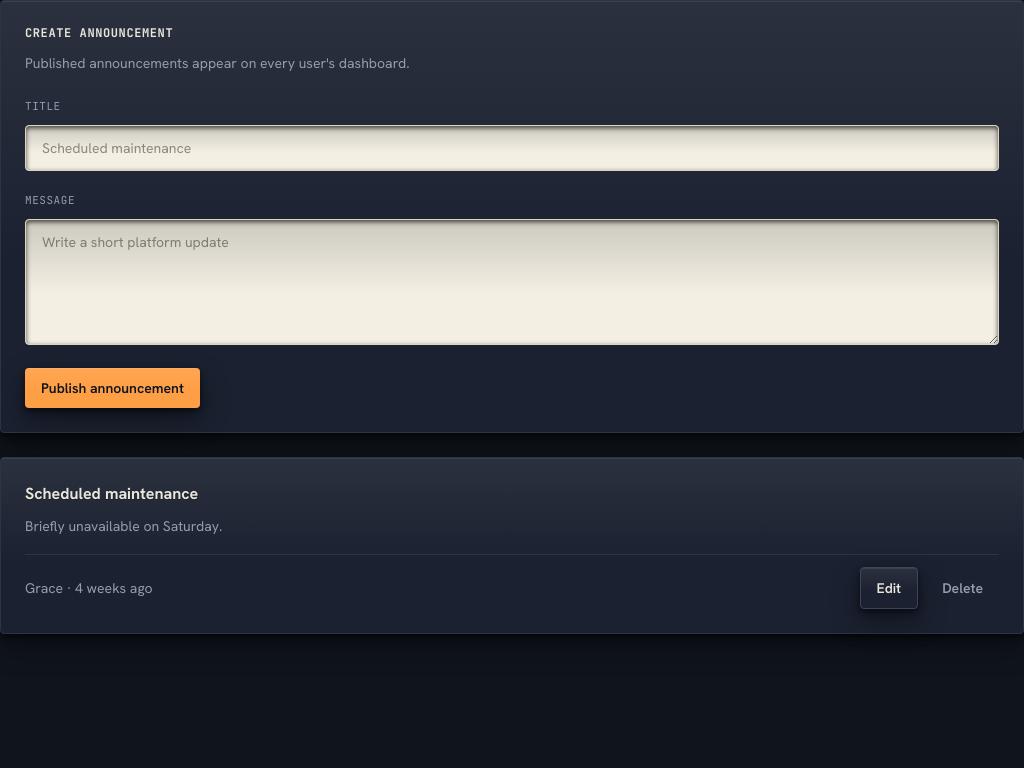
Test: AnnouncementPanel › loads the announcement into the form when editing starts
The width and height of the screenshot is (1024, 768).
Click the button "Edit" at [889, 588], box [860, 567, 918, 609]
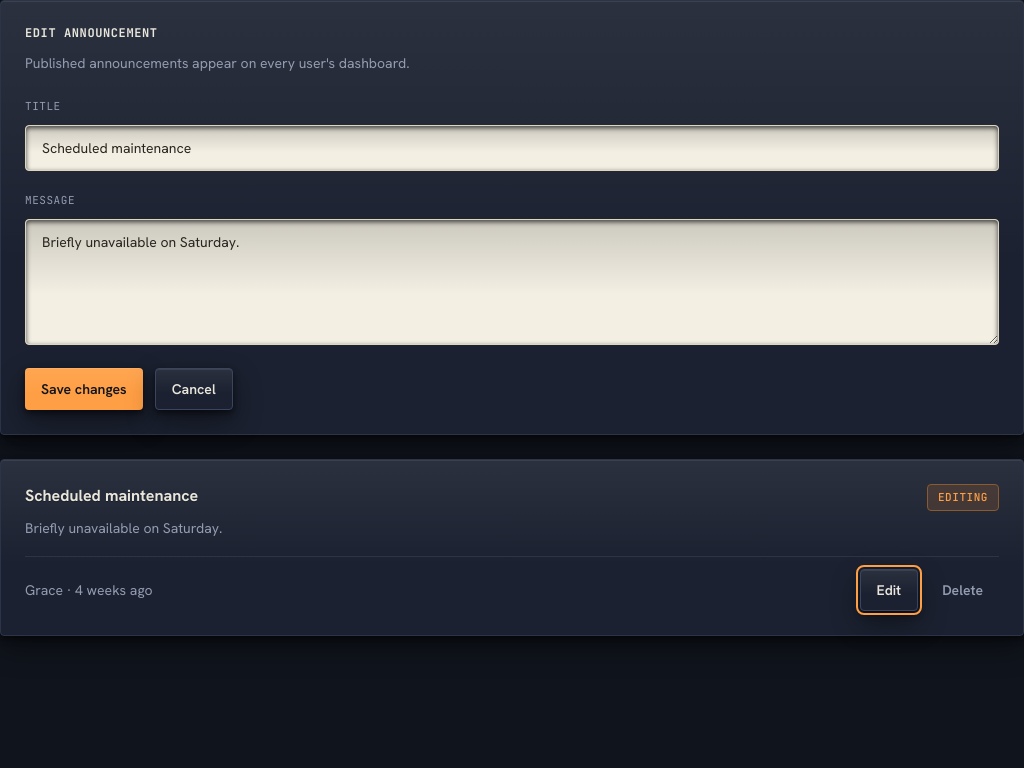
Expected: the field labelled "Title" holds "Scheduled maintenance", [25, 125, 999, 171]
